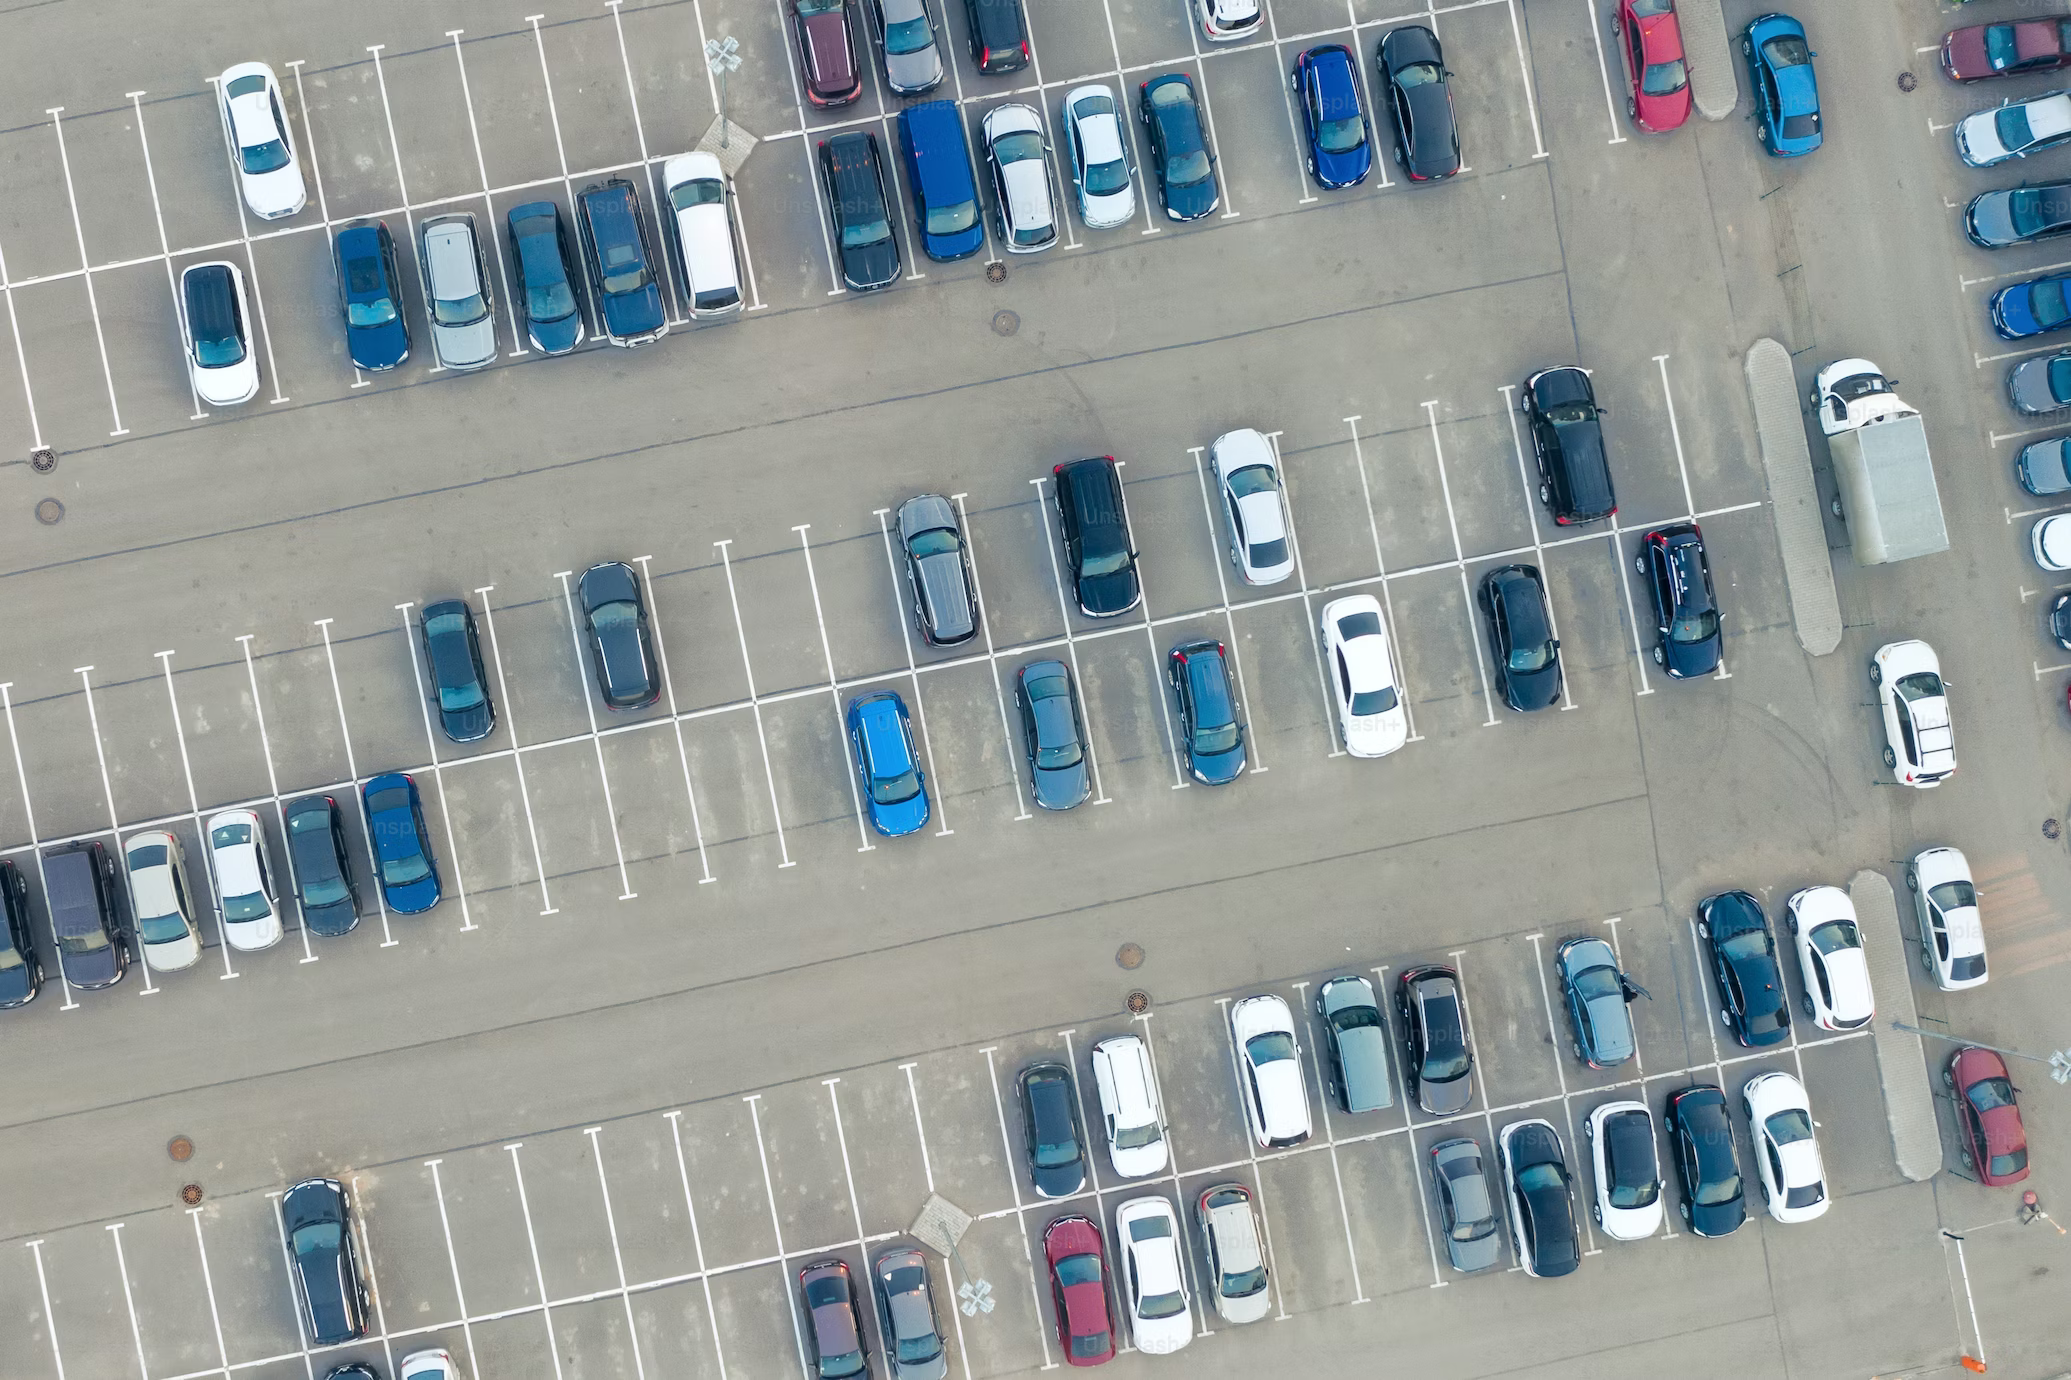car: (1186, 1184, 1306, 1341), (801, 1254, 941, 1374), (1529, 367, 1634, 516), (1290, 43, 1398, 185), (1053, 89, 1161, 231), (496, 213, 604, 354), (1825, 370, 1908, 553), (419, 220, 525, 363), (1380, 32, 1486, 174), (1138, 79, 1244, 220), (979, 106, 1086, 248), (901, 105, 1007, 246), (808, 143, 915, 285), (667, 165, 773, 306), (574, 188, 681, 330), (1583, 1090, 1685, 1238), (1908, 844, 2009, 992), (1658, 1083, 1760, 1229), (1738, 1074, 1840, 1220), (1426, 1137, 1535, 1271), (1497, 1132, 1606, 1266), (273, 795, 374, 929), (189, 813, 291, 947), (109, 835, 211, 969), (354, 776, 454, 910), (34, 849, 134, 981), (226, 85, 311, 220), (788, 5, 885, 117), (851, 701, 928, 841), (1121, 1198, 1190, 1348), (902, 504, 978, 641), (1960, 1055, 2031, 1200), (1172, 644, 1246, 782), (1062, 464, 1133, 607), (1330, 613, 1403, 747), (419, 607, 494, 735), (1491, 574, 1561, 708), (1022, 665, 1087, 810), (185, 271, 254, 405), (1047, 1221, 1113, 1362), (1223, 457, 1298, 574), (1658, 533, 1720, 676), (872, 5, 964, 100), (1805, 907, 1875, 1029), (1236, 1021, 1309, 1138), (1320, 992, 1392, 1109), (1406, 973, 1478, 1090), (588, 599, 662, 712), (1888, 662, 1956, 782), (342, 226, 400, 362), (1437, 1140, 1500, 1263), (1762, 43, 1825, 160), (294, 1221, 354, 1341), (1569, 955, 1632, 1064), (1966, 179, 2071, 243), (1956, 99, 2071, 157), (1709, 898, 1758, 1035), (879, 1257, 938, 1371), (1024, 1066, 1079, 1186), (802, 1263, 864, 1371), (1635, 11, 1685, 142), (959, 5, 1046, 79), (1988, 268, 2071, 339), (1945, 28, 2069, 72), (2008, 351, 2071, 414), (1818, 368, 1877, 433), (2017, 434, 2071, 496), (1198, 5, 1266, 39), (2039, 511, 2071, 570), (2051, 587, 2071, 650)
